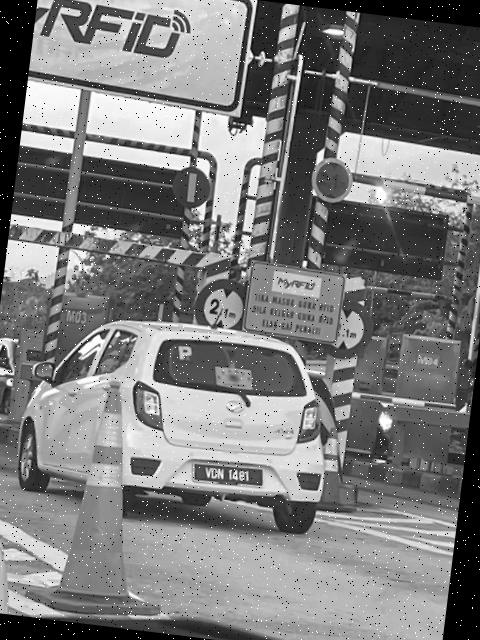License_Plate: (193, 461, 261, 493)
car: (16, 301, 345, 543)
